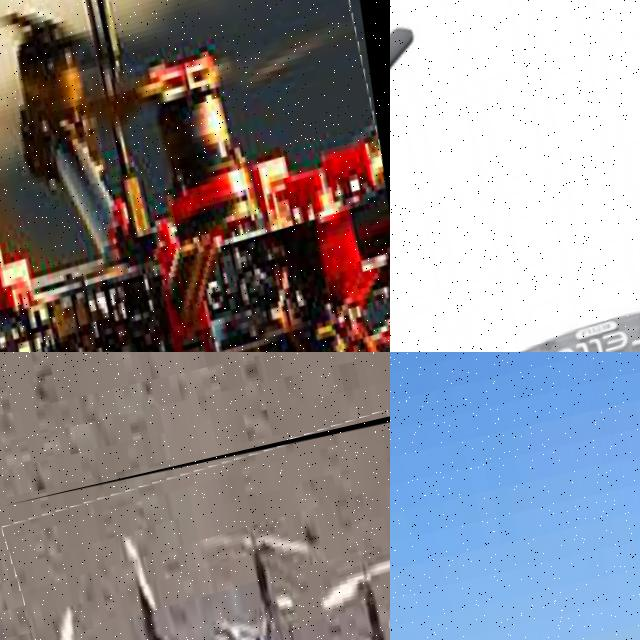0: (1, 412, 390, 640)
drone: (0, 0, 390, 352), (390, 0, 640, 352)
